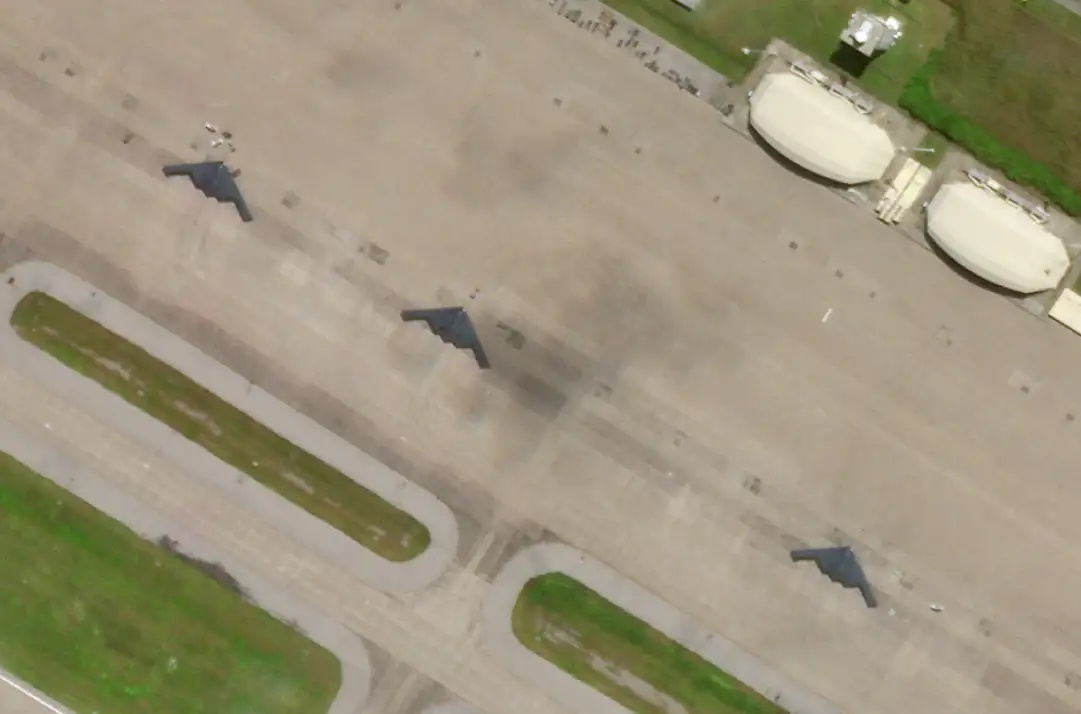B2: (399, 306, 491, 369), (161, 161, 254, 222), (790, 545, 878, 608)
